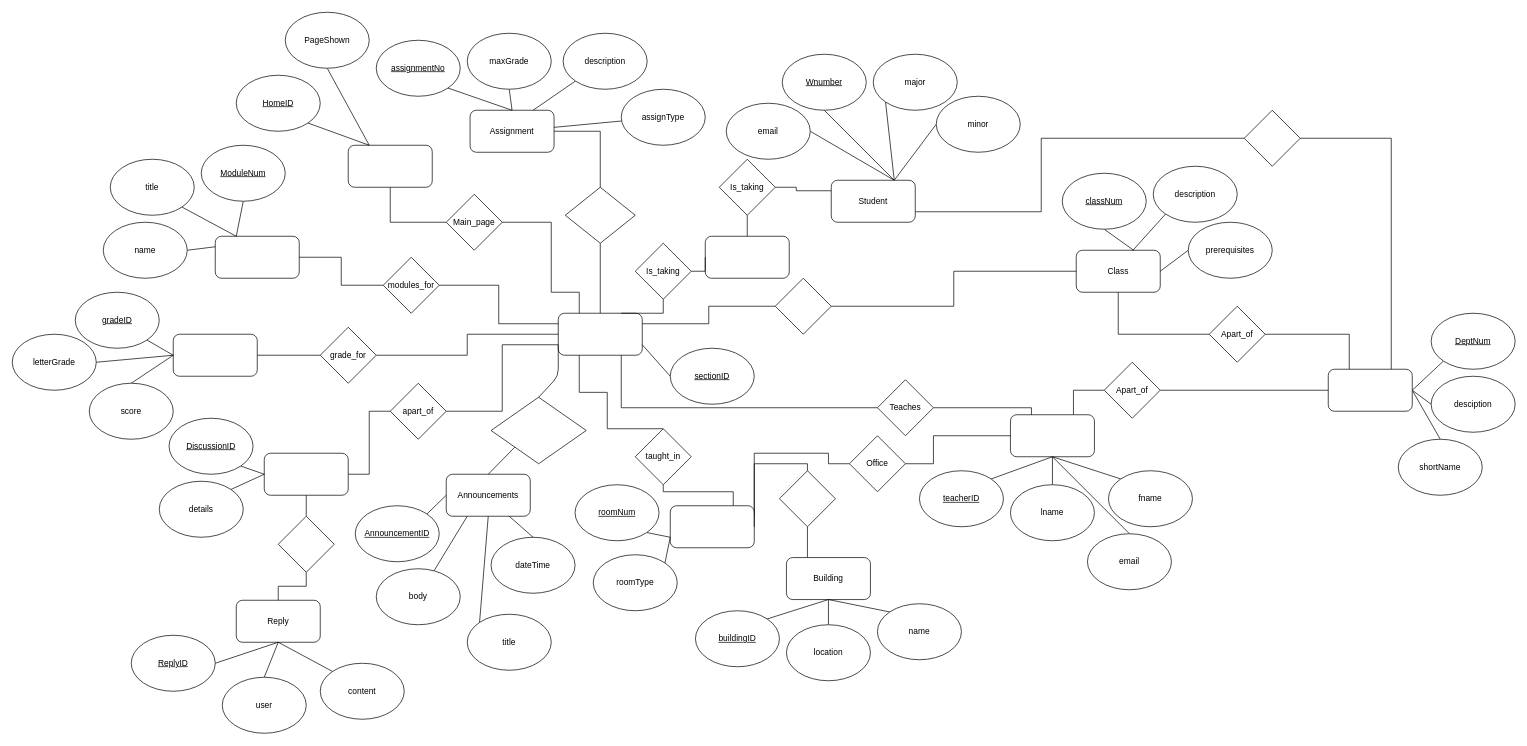
This 1527x746 diagram has some shape labels left out. Each missing label, with the box of its shape:
announcement_for: (490, 397, 586, 464)
assignment_for: (565, 187, 635, 243)
Department: (1328, 369, 1412, 411)
Discussions: (264, 453, 348, 495)
Final_Grade: (173, 334, 257, 376)
Home: (348, 145, 432, 187)
Major_minor: (1244, 110, 1300, 166)
Modules: (215, 236, 299, 278)
replied_to: (278, 516, 334, 572)
Room: (670, 505, 754, 548)
room_in: (779, 470, 835, 527)
Section: (558, 313, 642, 355)
Section_of: (775, 278, 831, 334)
Student_Section: (705, 236, 789, 278)
Teacher: (1010, 414, 1094, 457)
